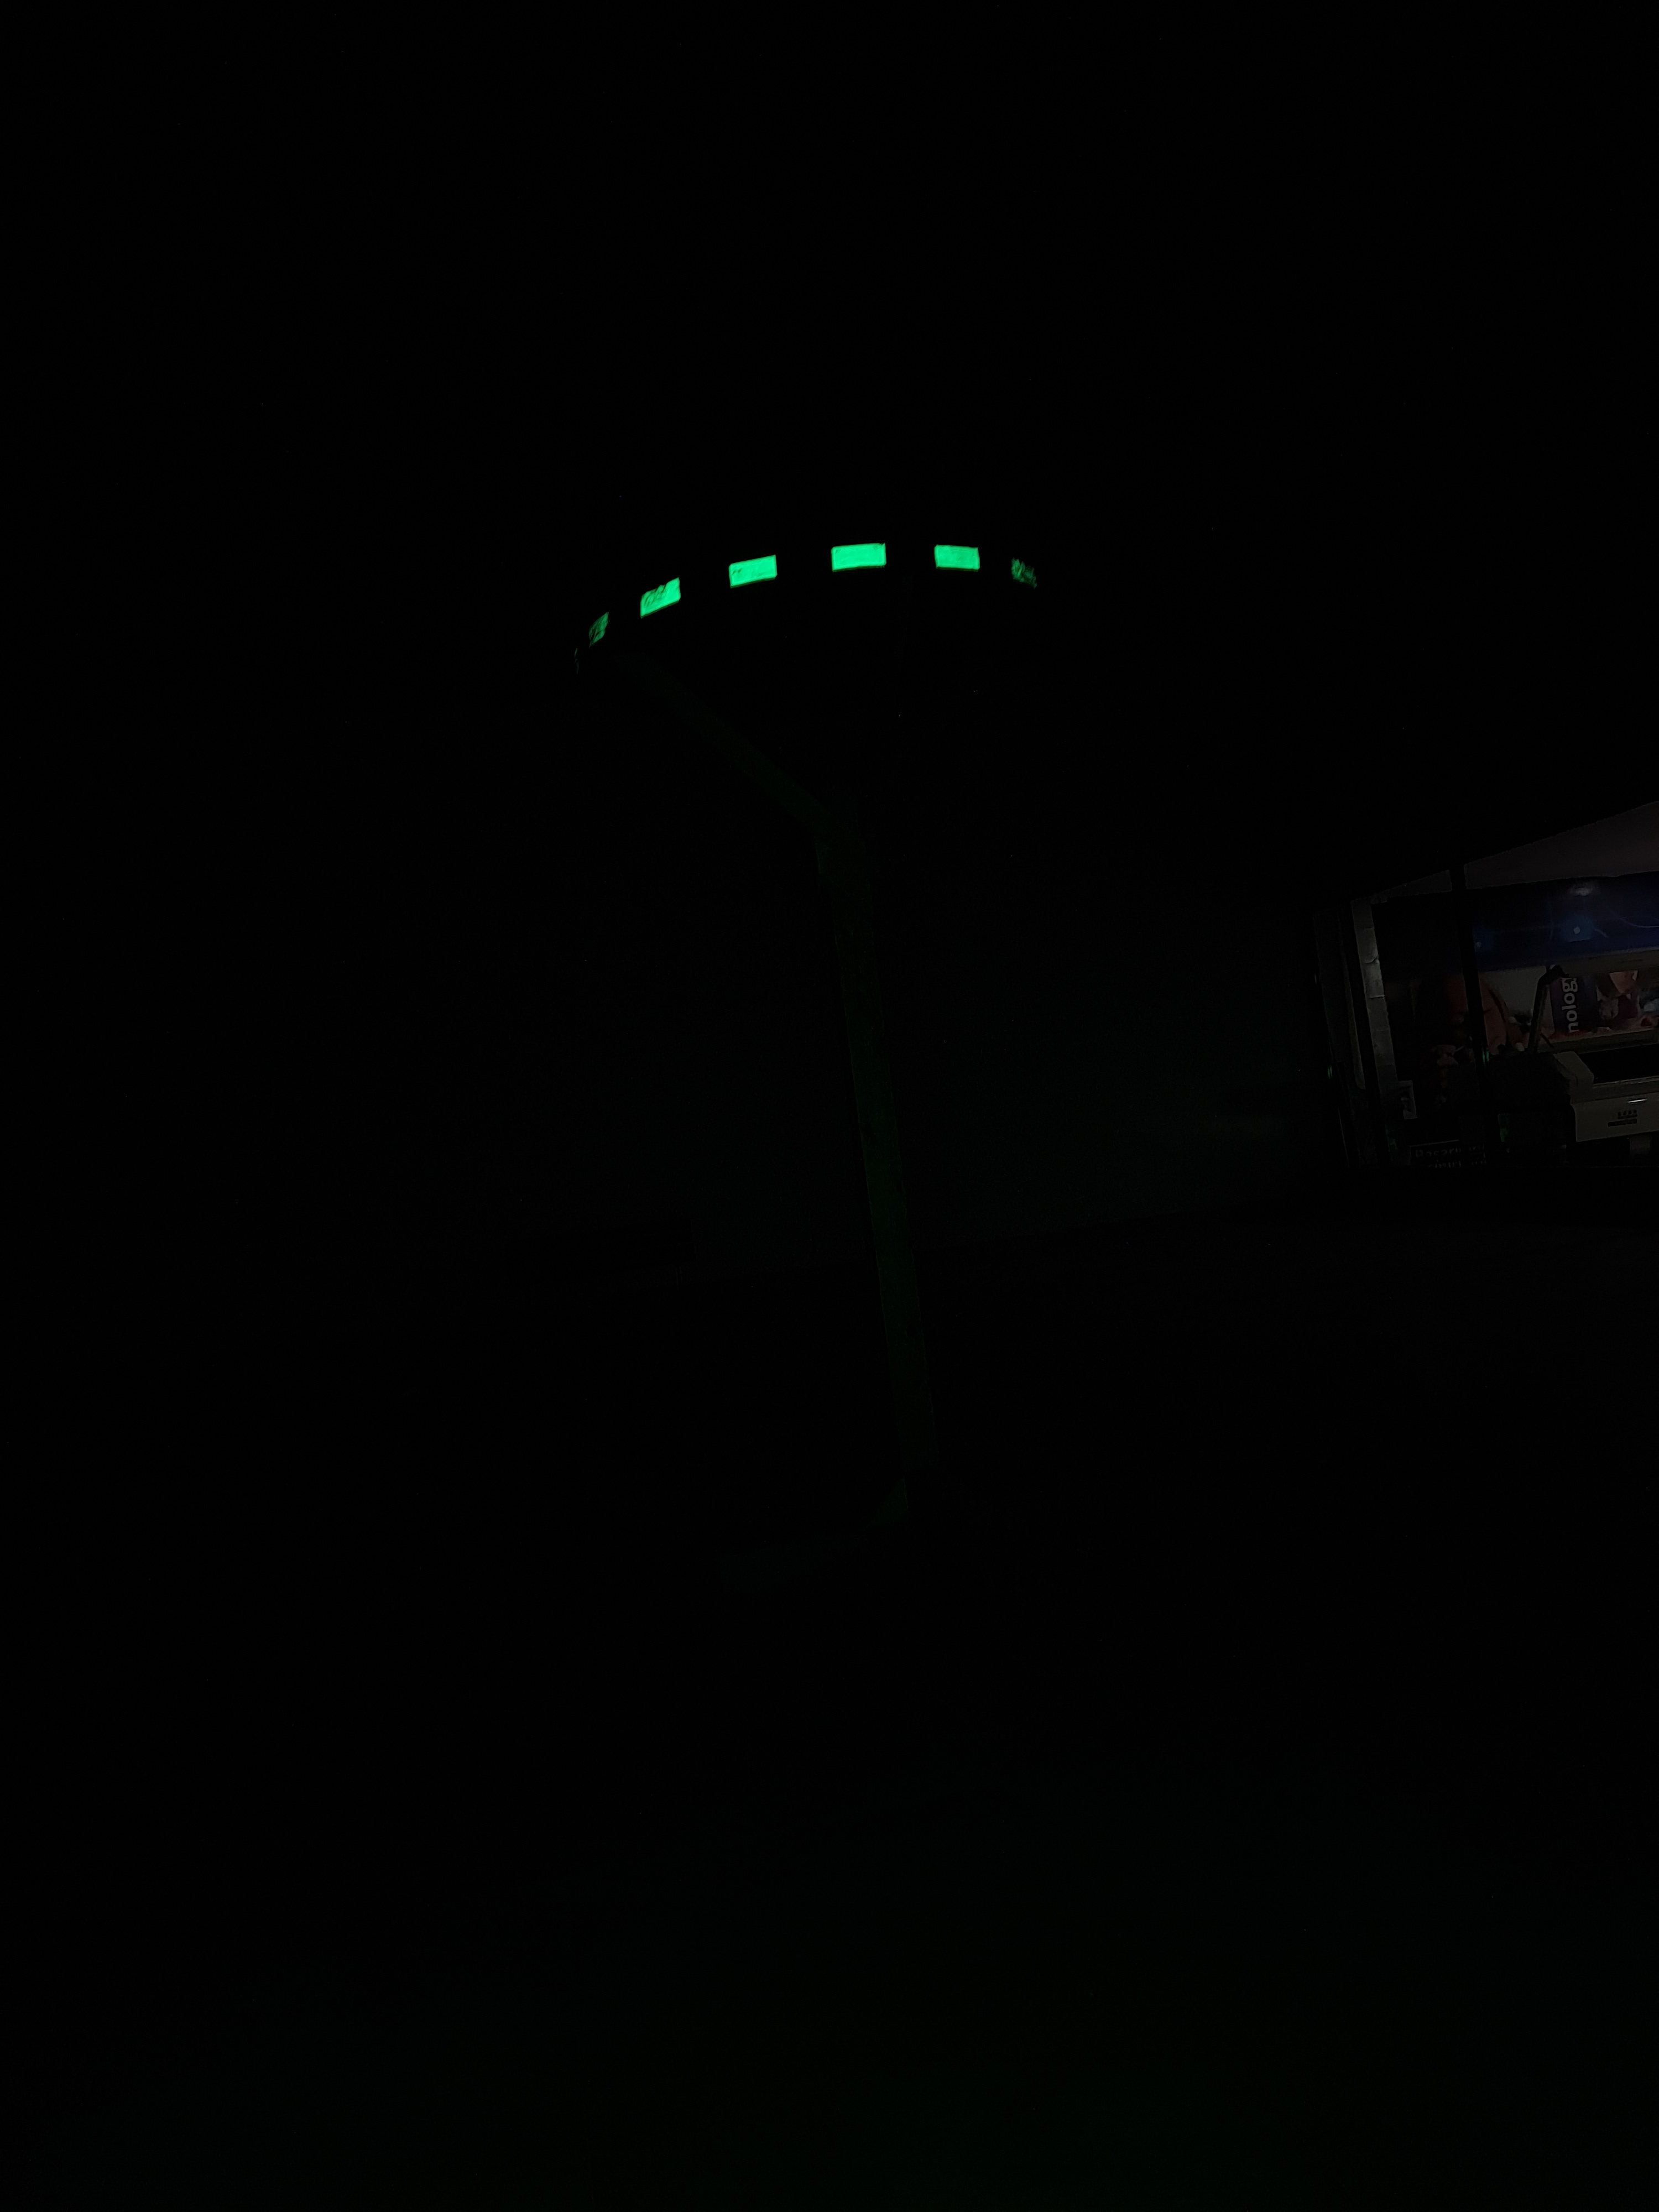hoop: (570, 491, 1108, 672)
